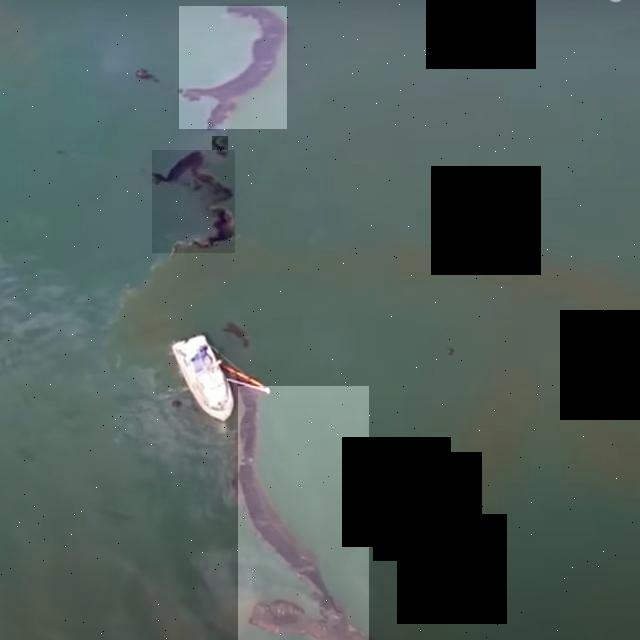oil spill: (238, 386, 369, 640), (179, 6, 287, 129), (152, 151, 235, 253), (212, 137, 228, 157)
